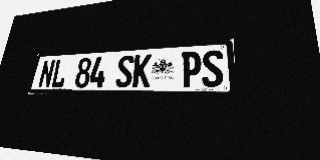4: (89, 56, 108, 88)
8: (74, 57, 93, 88)
K: (132, 54, 152, 87)
L: (50, 59, 69, 88)
N: (38, 60, 56, 88)
P: (181, 51, 201, 87)
S: (202, 50, 224, 87), (115, 55, 135, 87)
